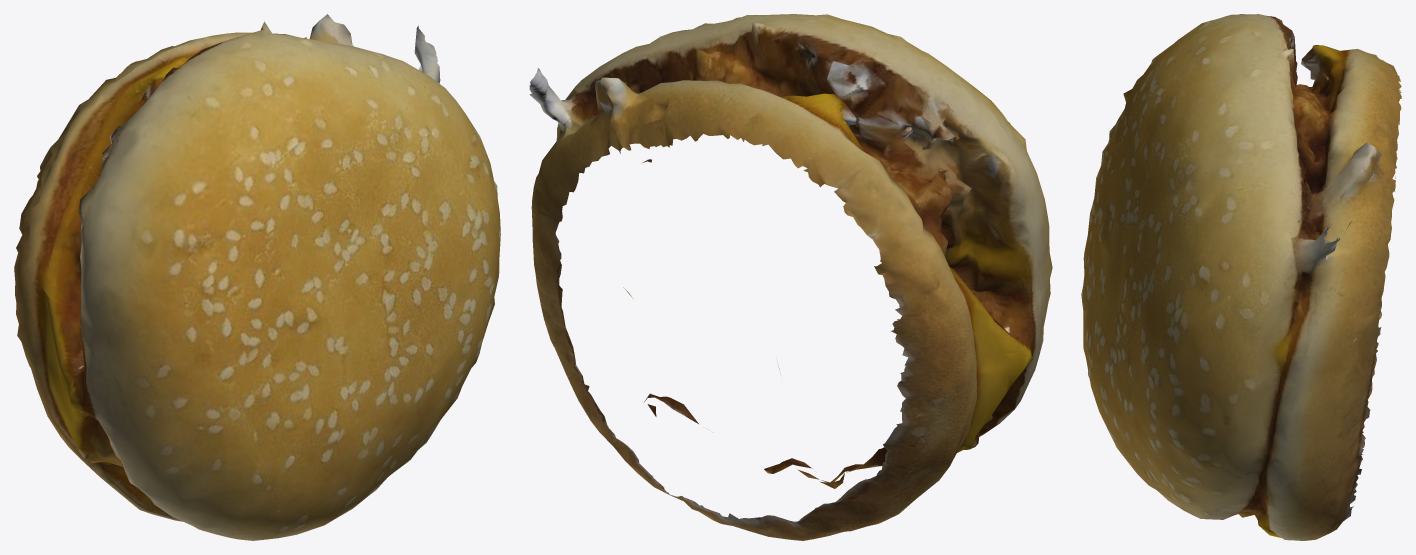
The picture shows the model from 3 angles, left to right: view 1: azimuth 30°, elevation 25°; view 2: azimuth 150°, elevation 25°; view 3: azimuth 270°, elevation 25°; orthographic projection. The views are drawn at different scales.
Bounding box in the file's own units: 3.81 × 4.05 × 2.46.
1 material, 1 textured.
